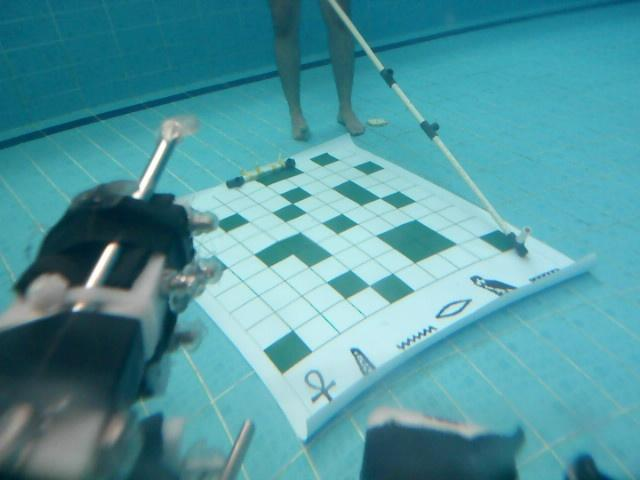Ankh: (306, 367, 336, 406)
Mouth: (437, 296, 474, 321)
Owl: (469, 275, 520, 304)
Reed: (348, 346, 381, 380)
Water: (396, 322, 438, 354)
